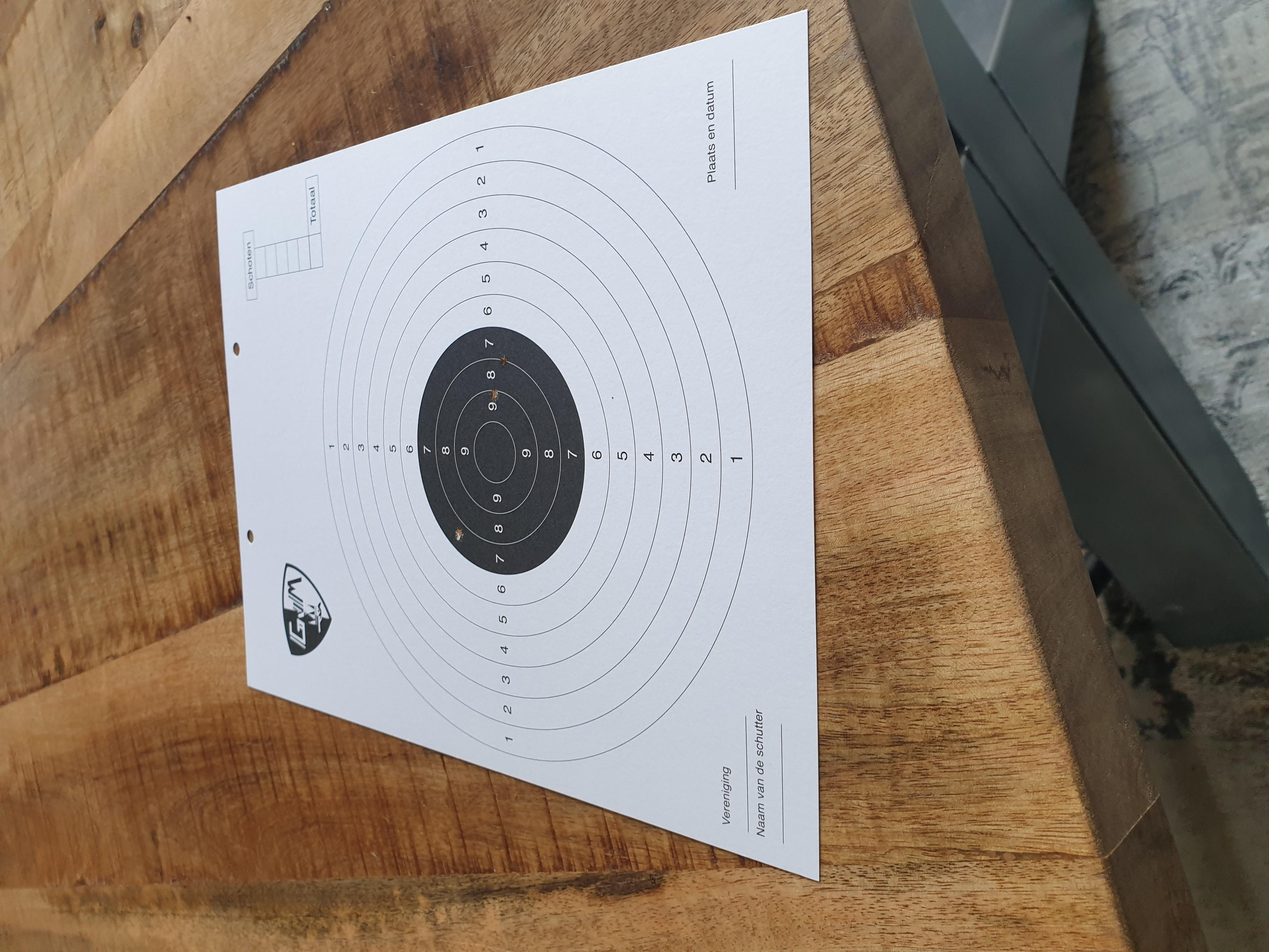hole: (498, 354, 508, 370), (454, 527, 464, 542), (490, 388, 498, 403)
